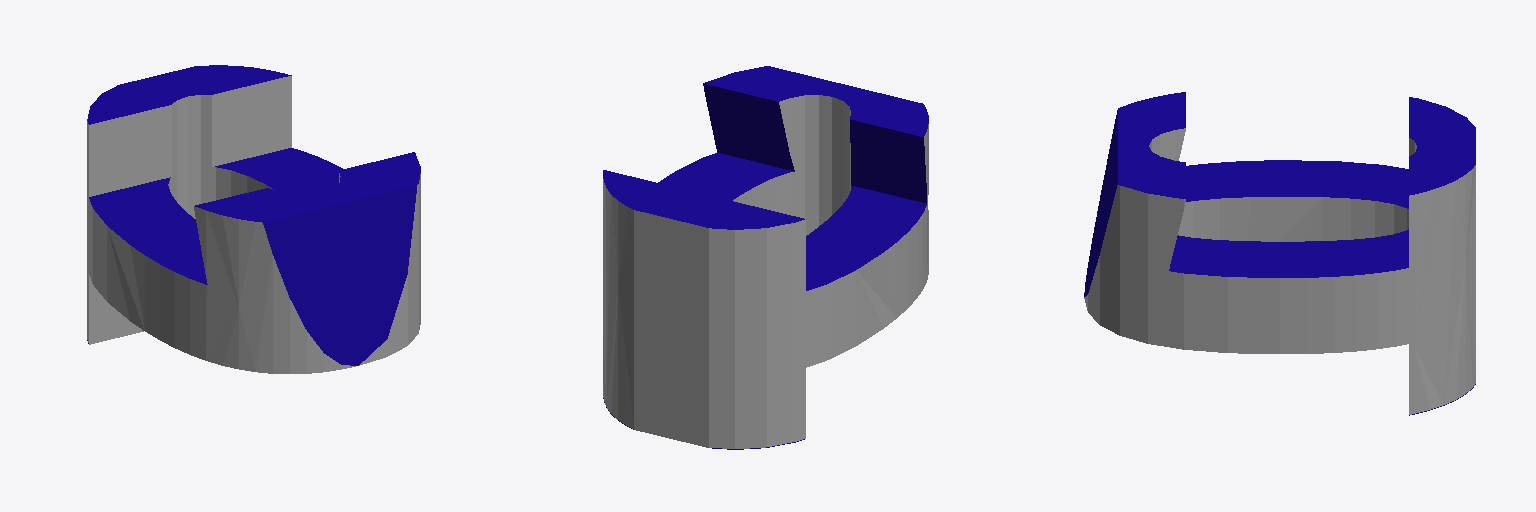
The model's file is targetpt.obj.
3 views of the same model, side by side, from view 1: azimuth 30°, elevation 25°; view 2: azimuth 150°, elevation 25°; view 3: azimuth 270°, elevation 25° (orthographic).
Visible parts, largest first — view 1: Text003; view 2: Text003; view 3: Text003.
Boxes of the visible parts, x1,y1,x2,y2 form: Text003: [87, 65, 420, 373]; Text003: [603, 66, 928, 449]; Text003: [1084, 92, 1475, 415].
Bounding box in the file's own units: 3.82 × 3.35 × 5.36.